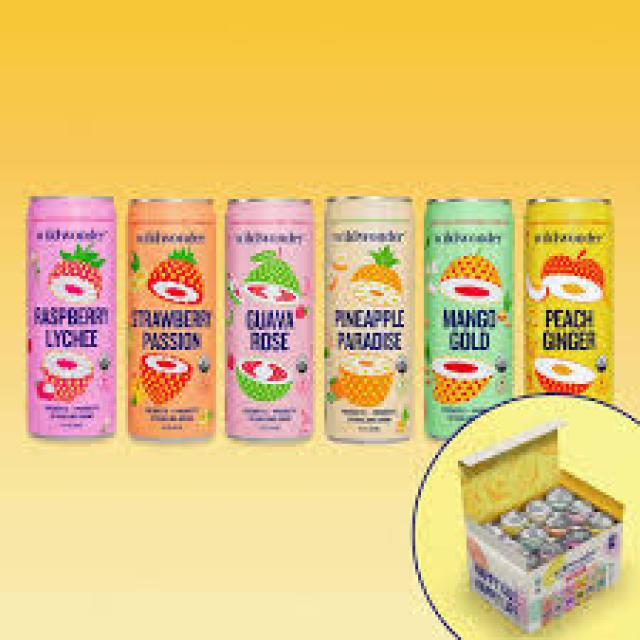Cans: (17, 190, 122, 450), (119, 188, 222, 452), (216, 190, 319, 450), (418, 190, 521, 441), (319, 188, 415, 449), (518, 188, 623, 412)
